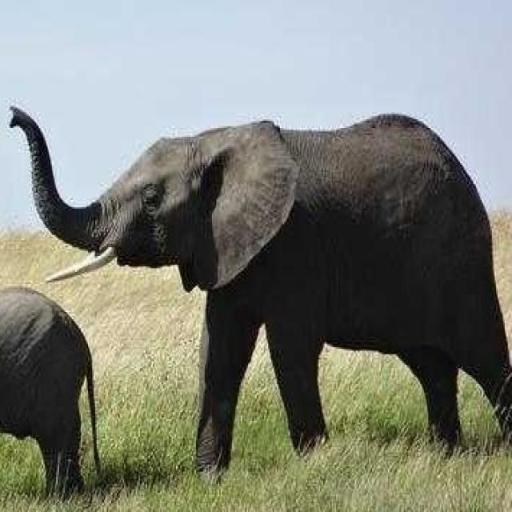Elephant: (8, 102, 510, 484), (0, 284, 101, 498)
